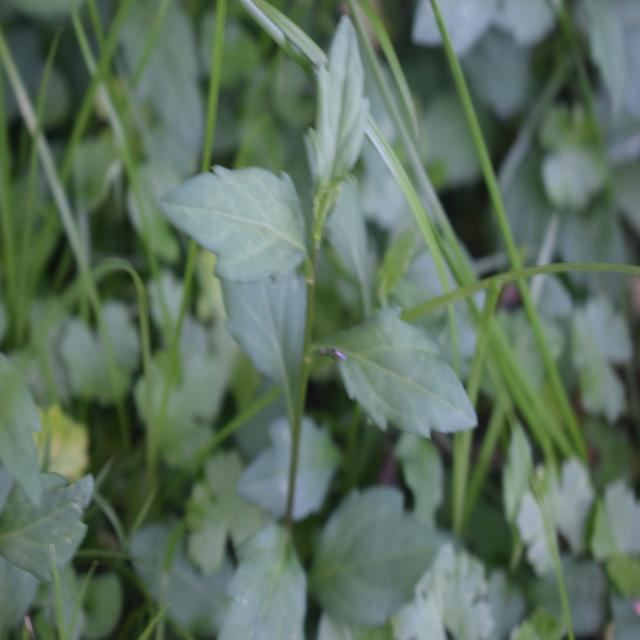Indian aster: (182, 50, 470, 492)
